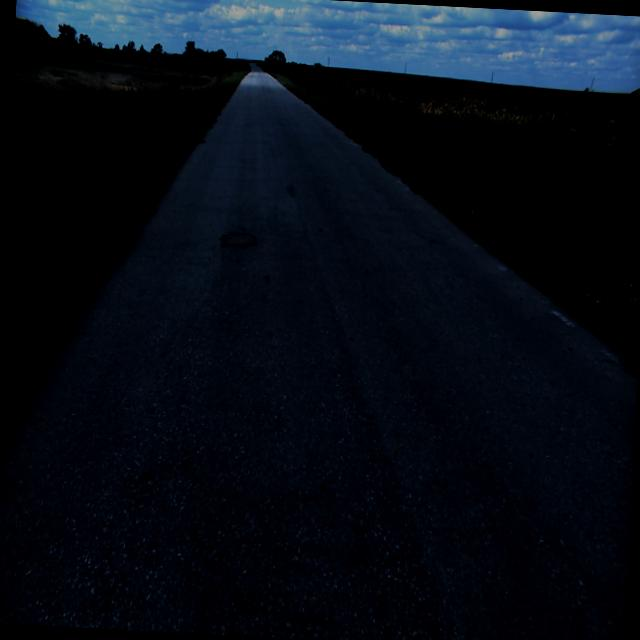road: (0, 63, 637, 640)
